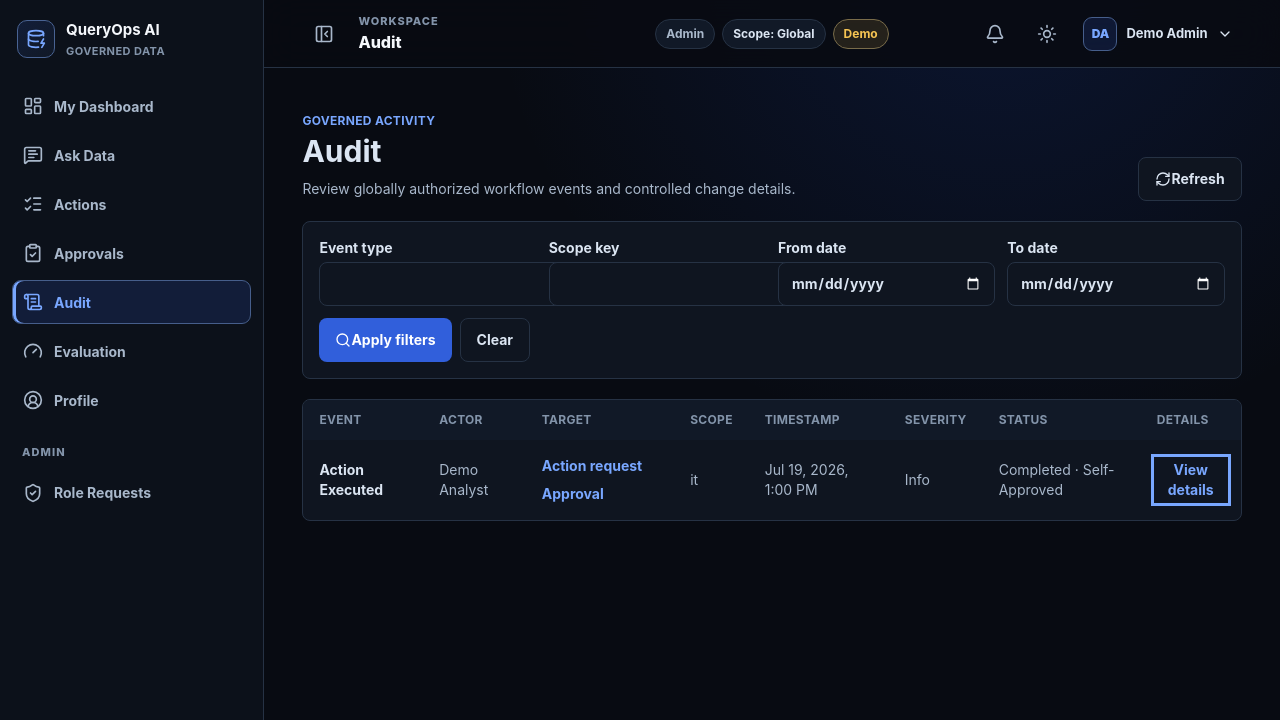
Test: AuditPage › renders only returned Admin details in an accessible, focus-restoring drawer
Step 1. Click the button "View details" → x=1191, y=480, box [1157,460,1225,500]
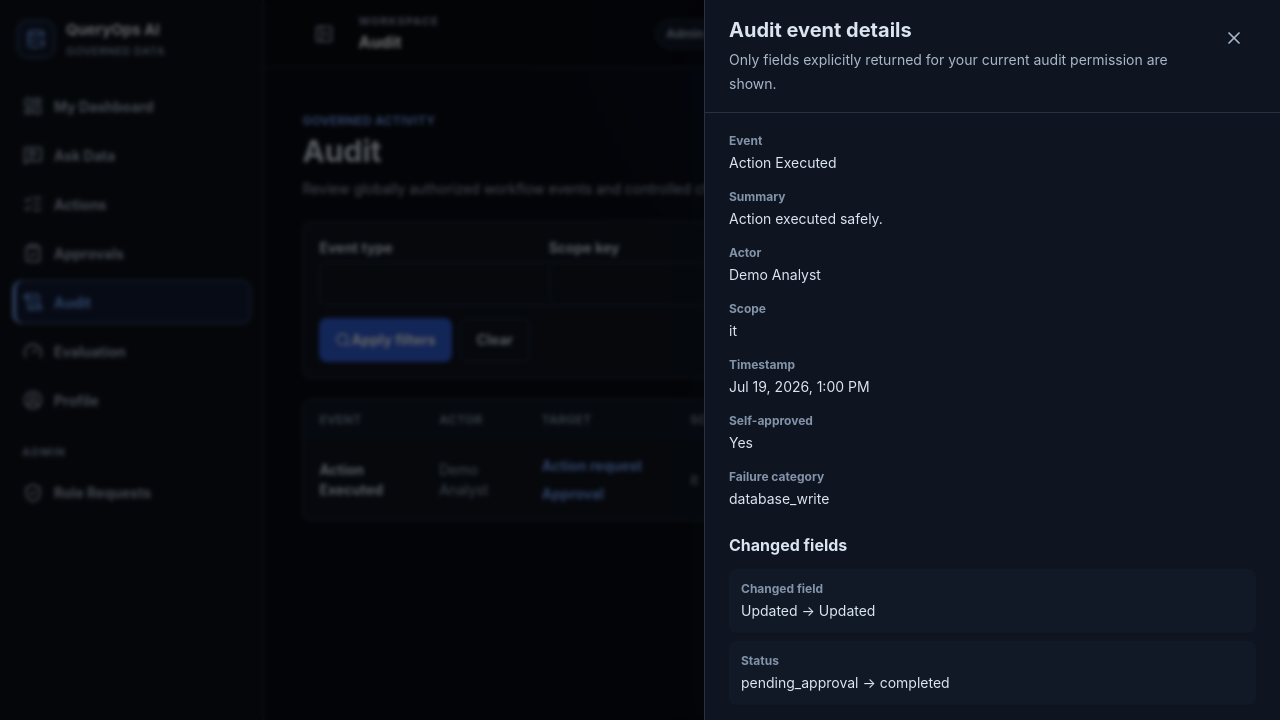
Now the dialog "Audit event details" is shown, box [704,0,1279,719]
Now the text "Self-approved" is shown, box [729,413,813,428]
Now the text "database_write" is shown, box [729,490,829,507]
Step 2. Press Escape
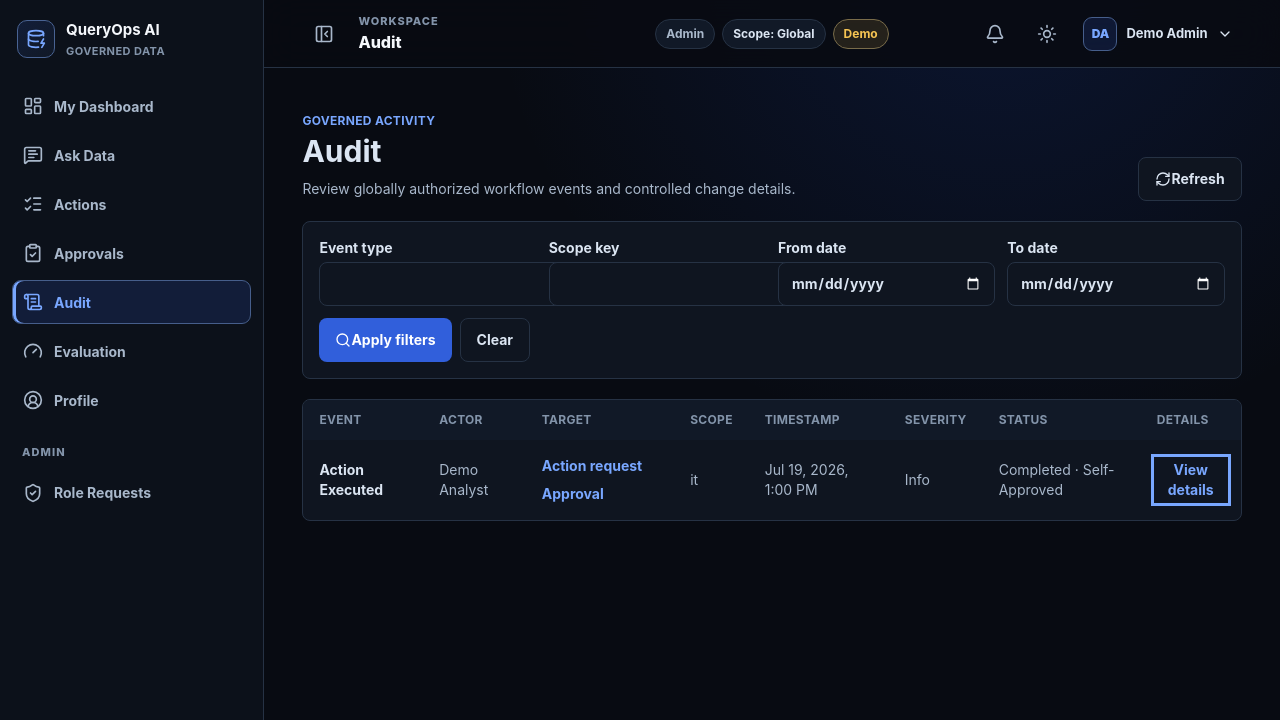
Now the heading "Audit event details" is gone
